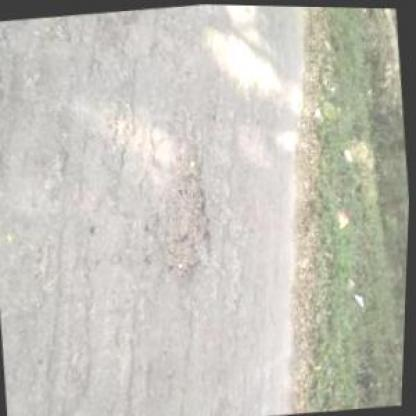pothole: (147, 133, 220, 284)
